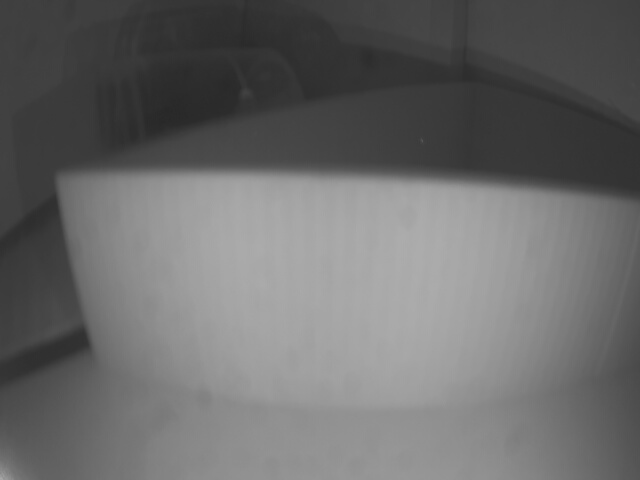Point: (61, 169, 639, 387)
